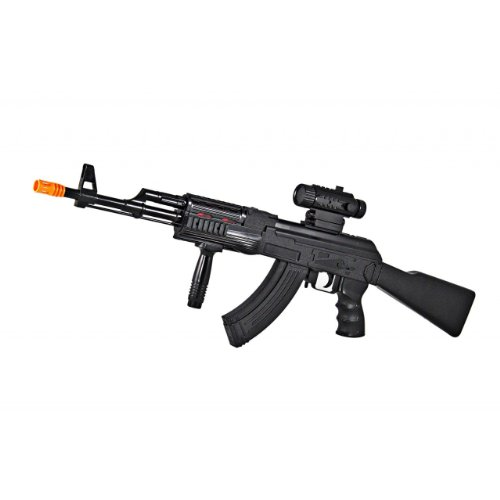Arma Falsa: (33, 160, 480, 358)
